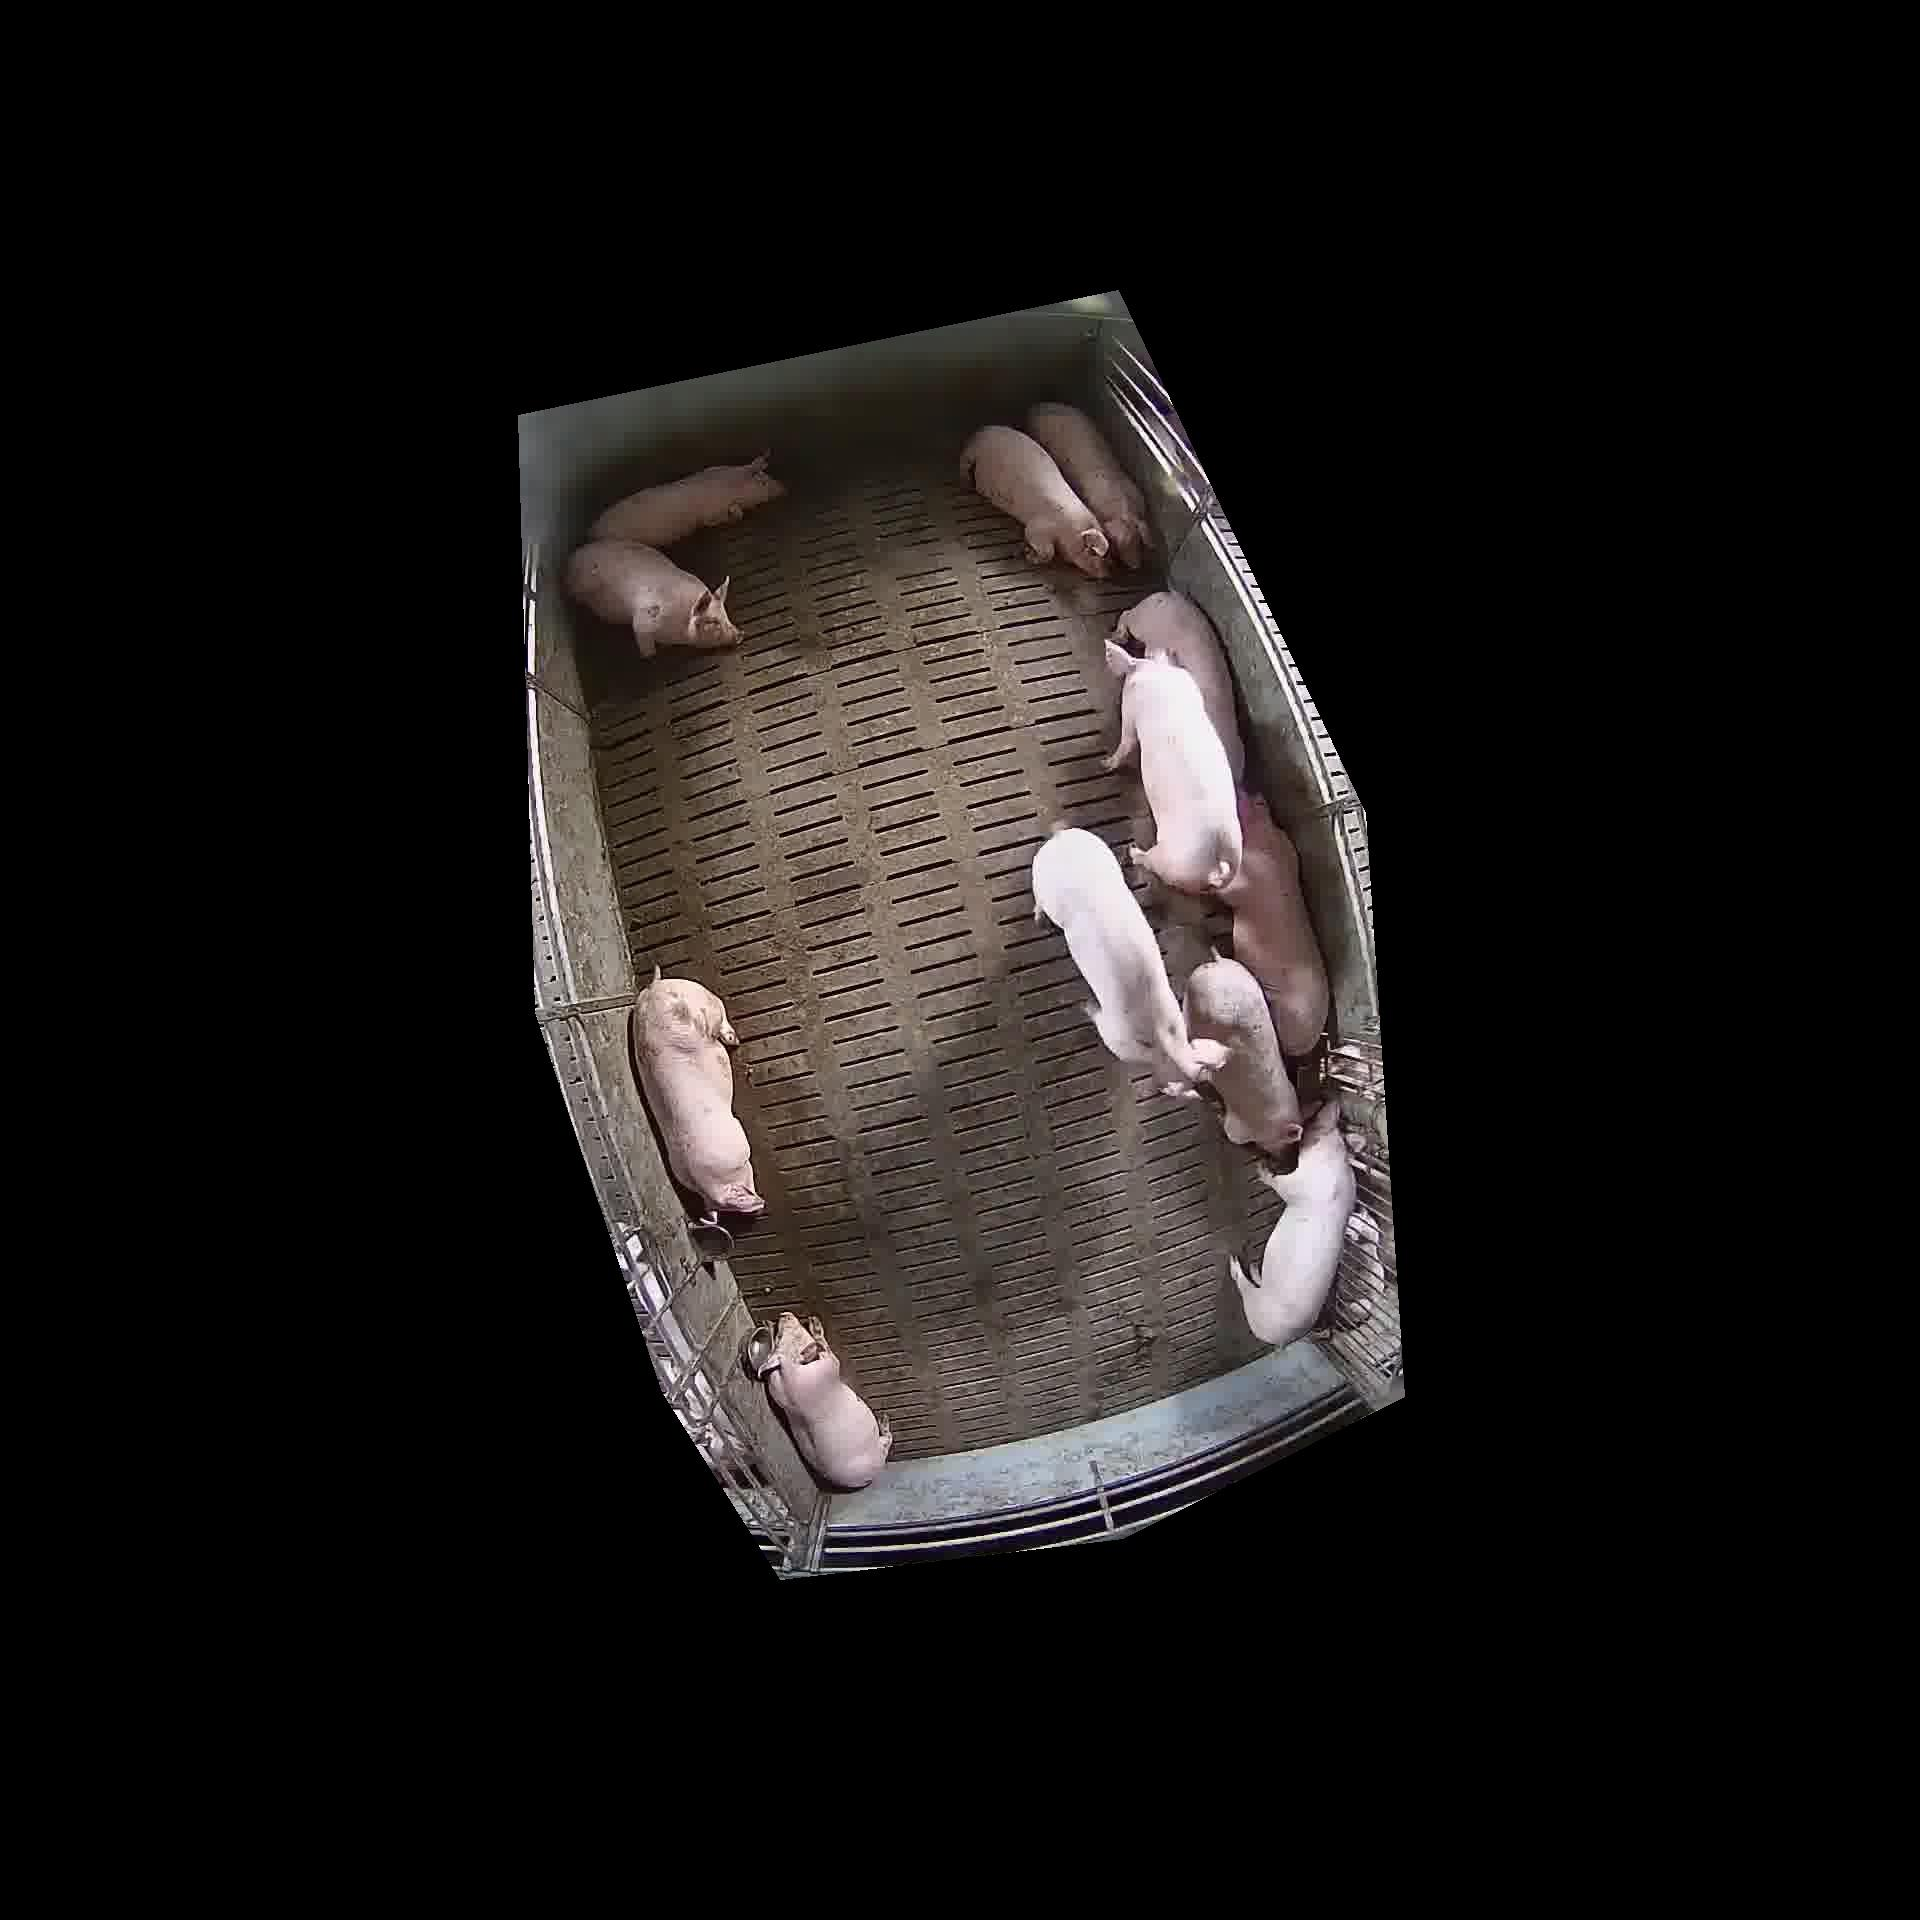pig: (1032, 828, 1227, 1095), (1106, 642, 1241, 893), (633, 972, 763, 1213), (1233, 1102, 1354, 1343), (1220, 789, 1329, 1055), (1115, 591, 1245, 782), (761, 1313, 891, 1487), (1185, 958, 1301, 1152), (960, 425, 1108, 577), (566, 540, 740, 656), (1027, 403, 1150, 566), (591, 454, 784, 547)
